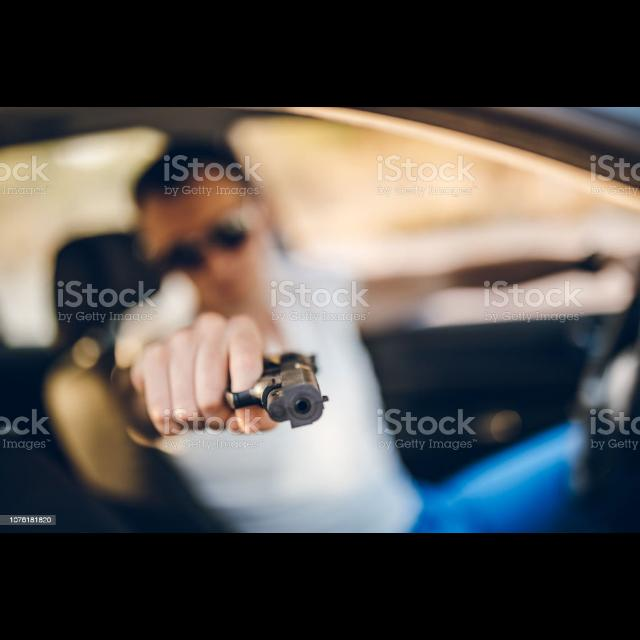handgun: (217, 348, 331, 430)
